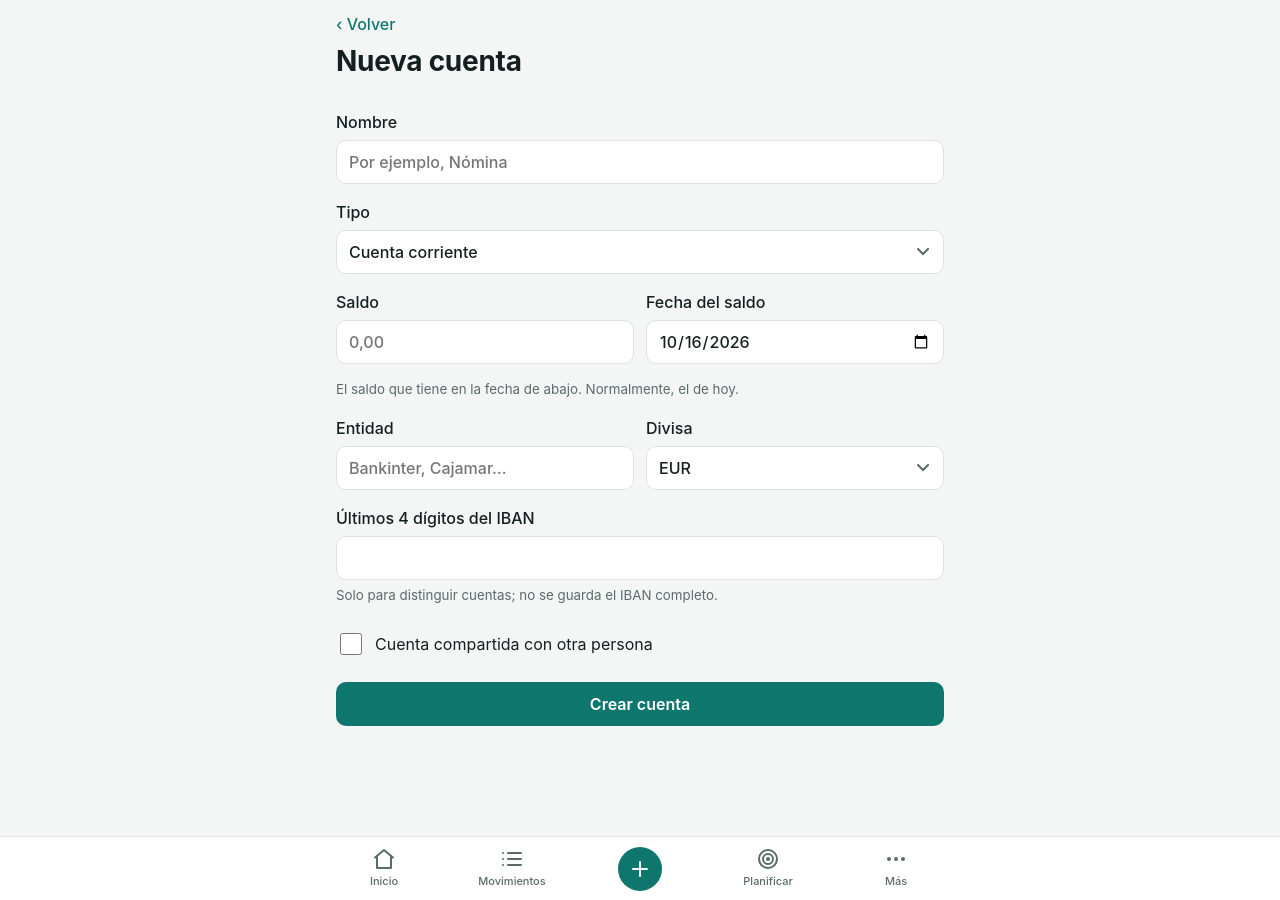
account › creates an account
Type "Nómina" into the field labelled "Nombre".
click(640, 162); type("Nómina")  # box top-left (336, 140), bottom-right (944, 184)
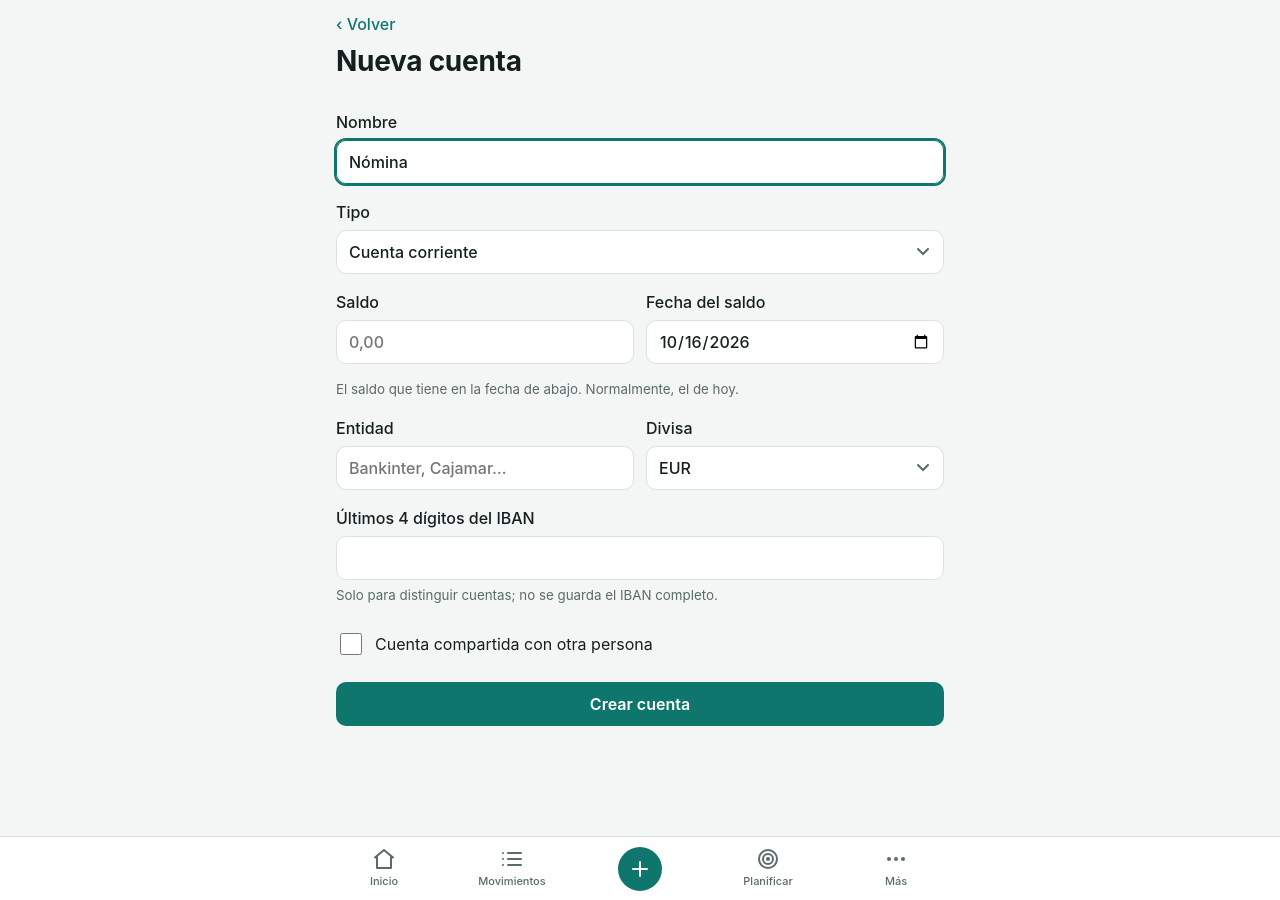
Type "1.500,25" into the field labelled "Saldo".
click(485, 342); type("1.500,25")  # box top-left (336, 320), bottom-right (634, 364)
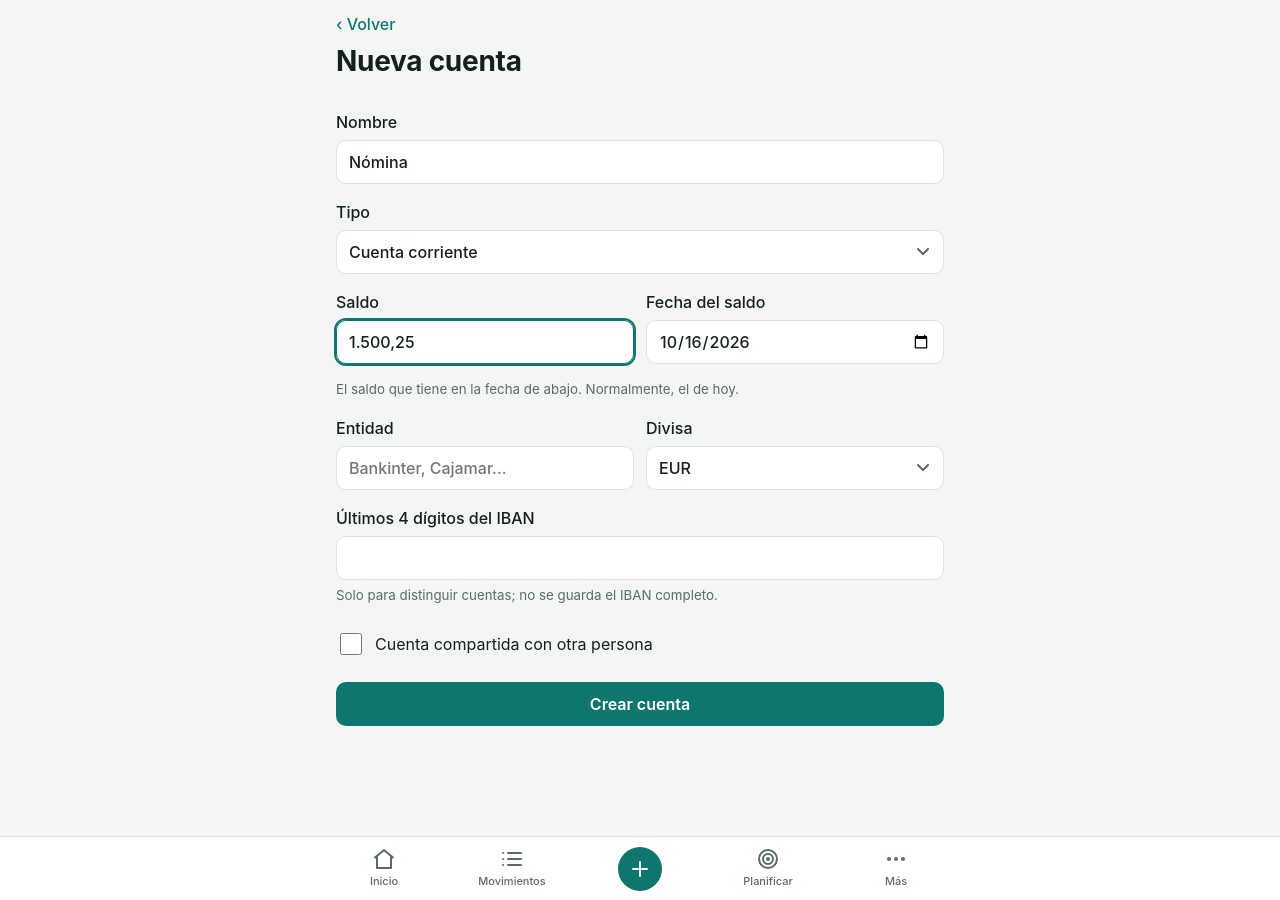
Type "Bankinter" into the field labelled "Entidad".
click(485, 468); type("Bankinter")  # box top-left (336, 446), bottom-right (634, 490)
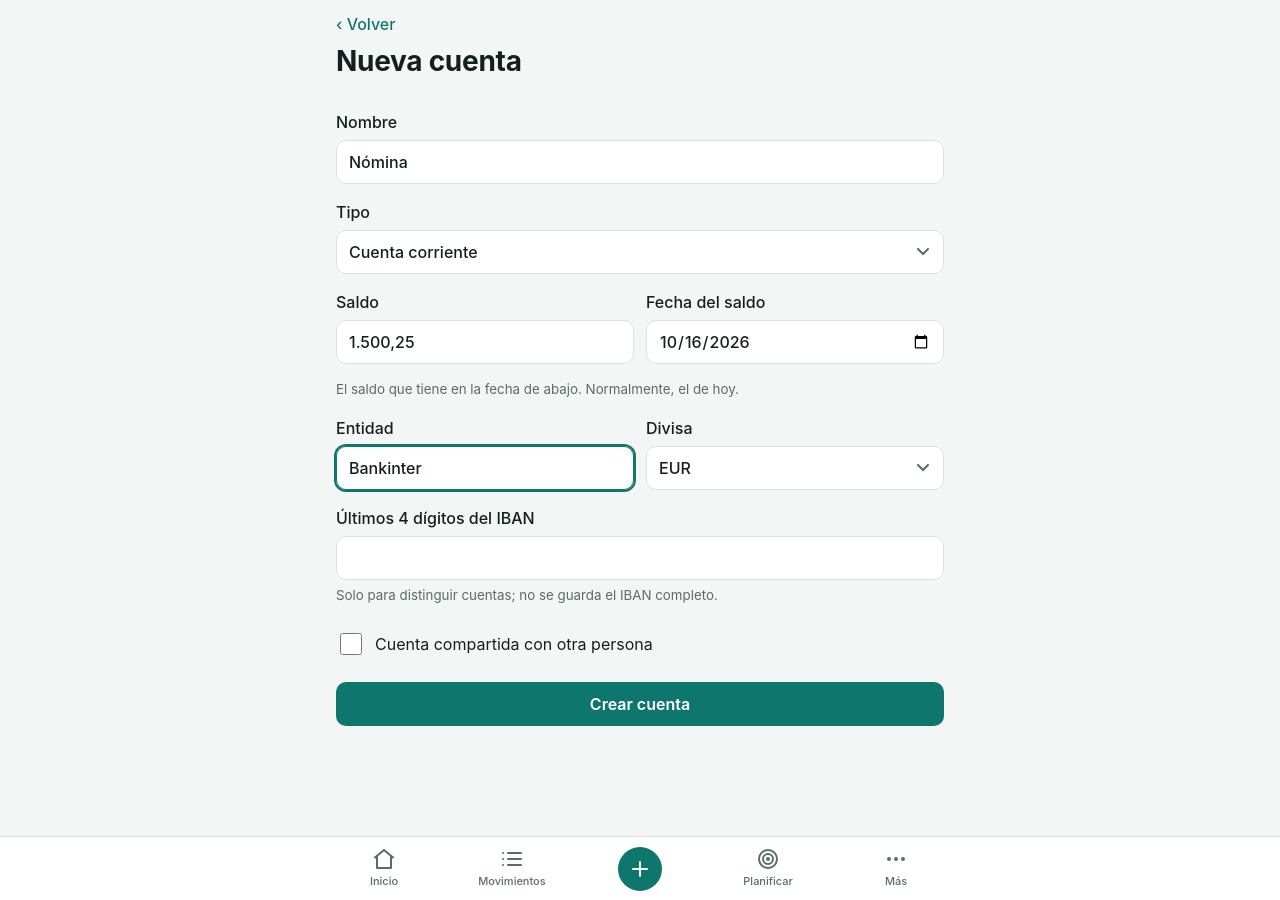
Click the button "Crear cuenta".
click(640, 704)  # box top-left (336, 682), bottom-right (944, 726)
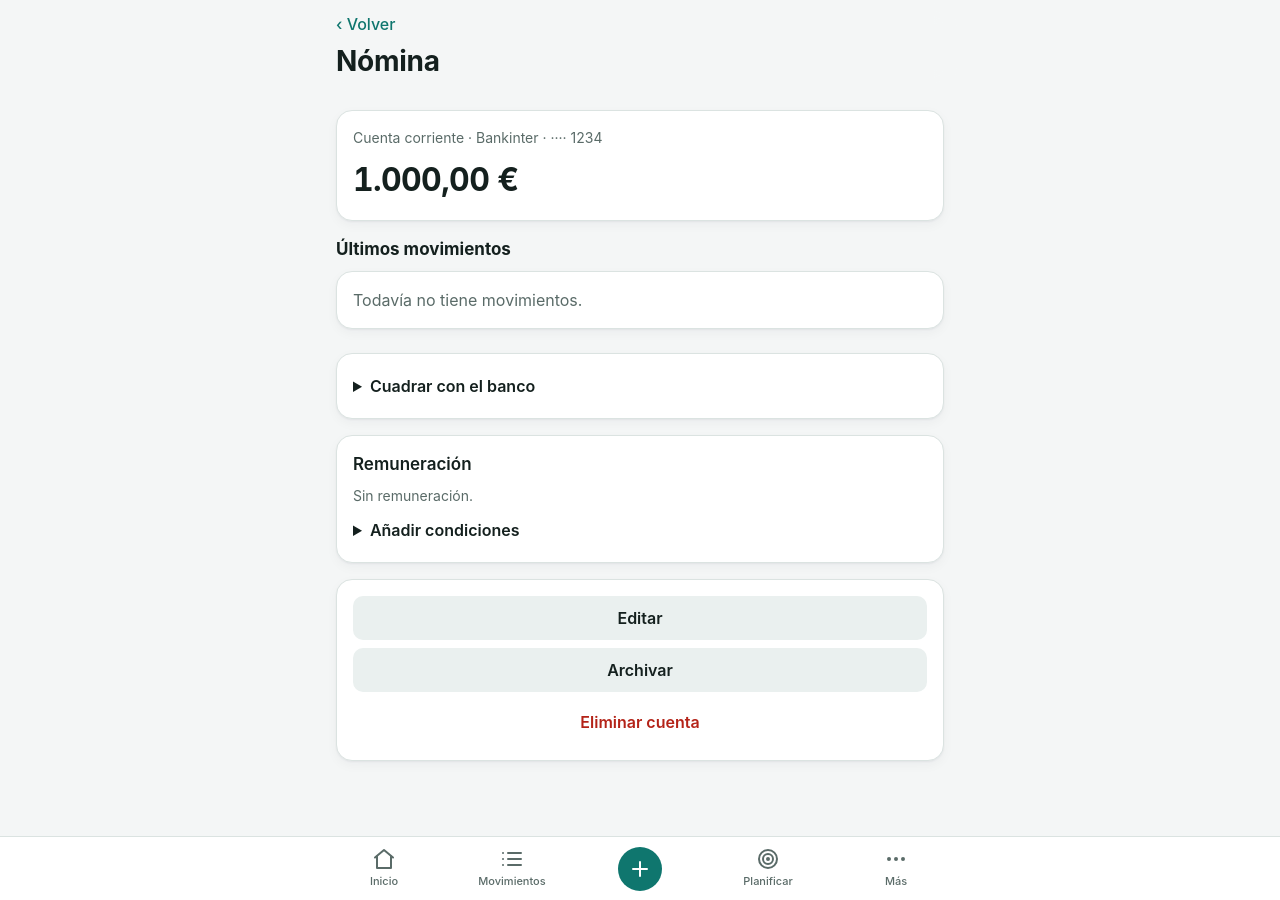
Result: the heading "Últimos movimientos" is shown at top-left (336, 237), bottom-right (511, 262)
